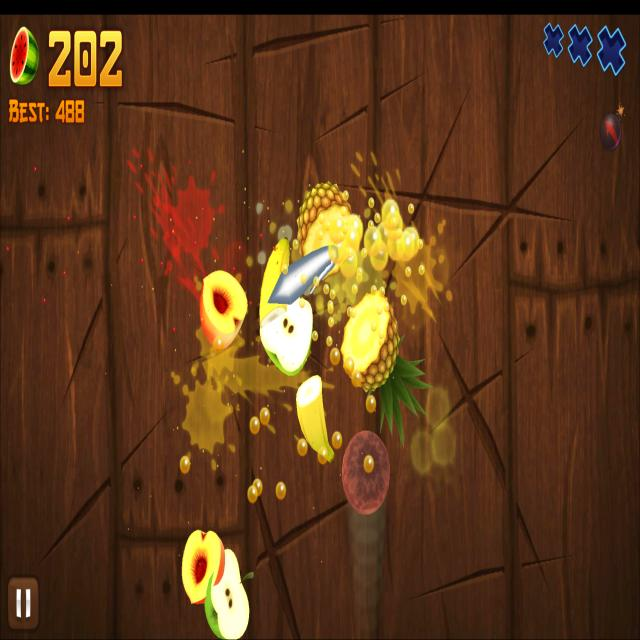fruit: (342, 429, 389, 515)
